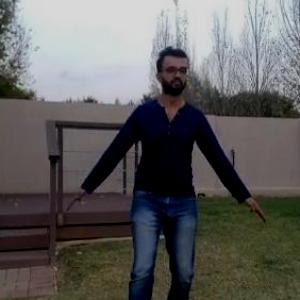land: (59, 40, 269, 299)
